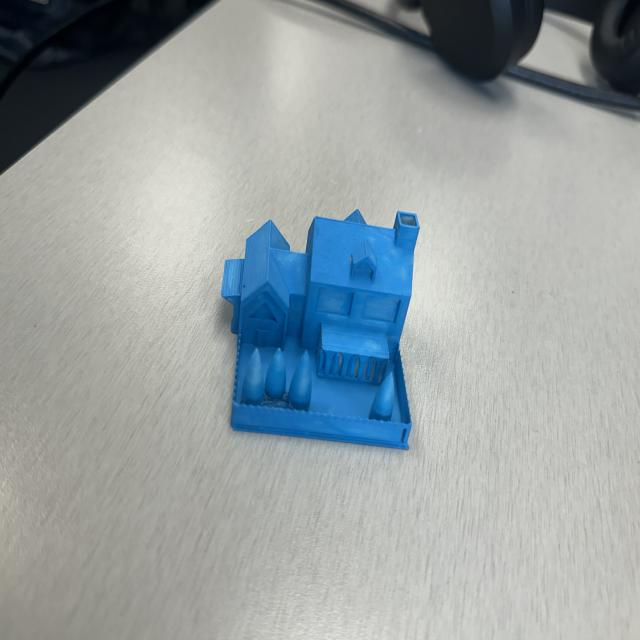house: (222, 206, 422, 453)
